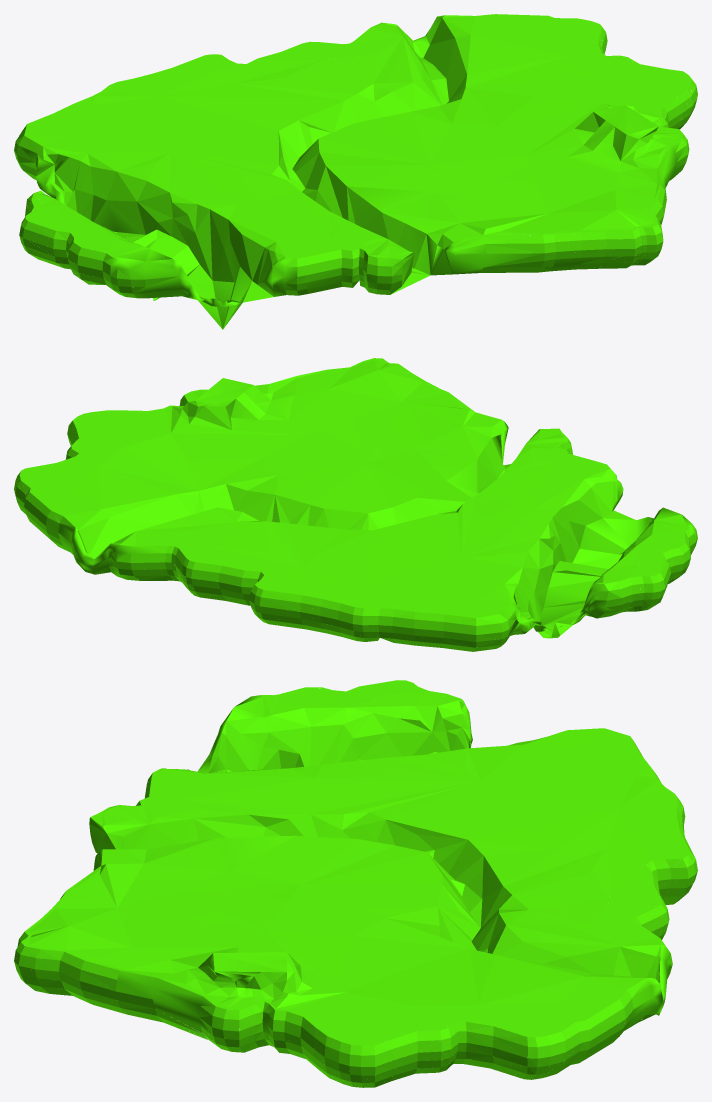
The model's file is Map-v0.2.3.glb.
The picture shows the model from 3 angles, top to bottom: view 1: azimuth 30°, elevation 25°; view 2: azimuth 150°, elevation 25°; view 3: azimuth 270°, elevation 25°; orthographic projection. The views are drawn at different scales.
Parts seen in each view (by area): view 1: PipoIsland; view 2: PipoIsland; view 3: PipoIsland.
Boxes of the visible parts, x1,y1,x2,y2 form: PipoIsland: (14,14,697,329); PipoIsland: (14,358,697,651); PipoIsland: (14,680,697,1087).
Size of the model in its own units: 527 by 69.74 by 410.
